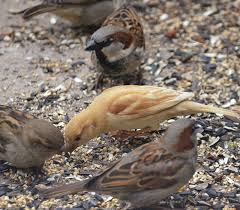hsparrow: (40, 119, 204, 210), (84, 4, 156, 82), (1, 98, 66, 176)
